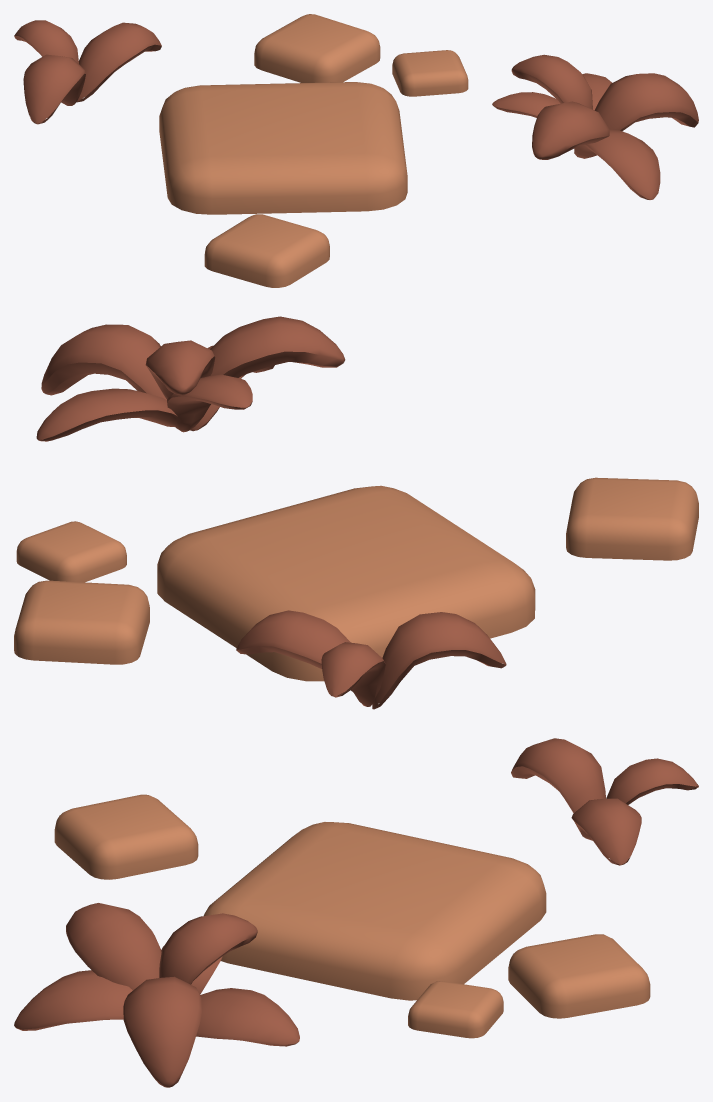
Rendered from detail_desert-col.glb.
The picture shows the model from 3 angles, top to bottom: view 1: azimuth 30°, elevation 25°; view 2: azimuth 150°, elevation 25°; view 3: azimuth 270°, elevation 25°; orthographic projection. The views are drawn at different scales.
Visible parts, largest first — view 1: detail_desert-col; view 2: detail_desert-col; view 3: detail_desert-col.
Boxes of the visible parts, <box> form: detail_desert-col: <box>14,14,698,287</box>; detail_desert-col: <box>14,316,698,709</box>; detail_desert-col: <box>14,738,698,1087</box>.
Size of the model in its own units: 1.7 by 0.3311 by 1.66.
